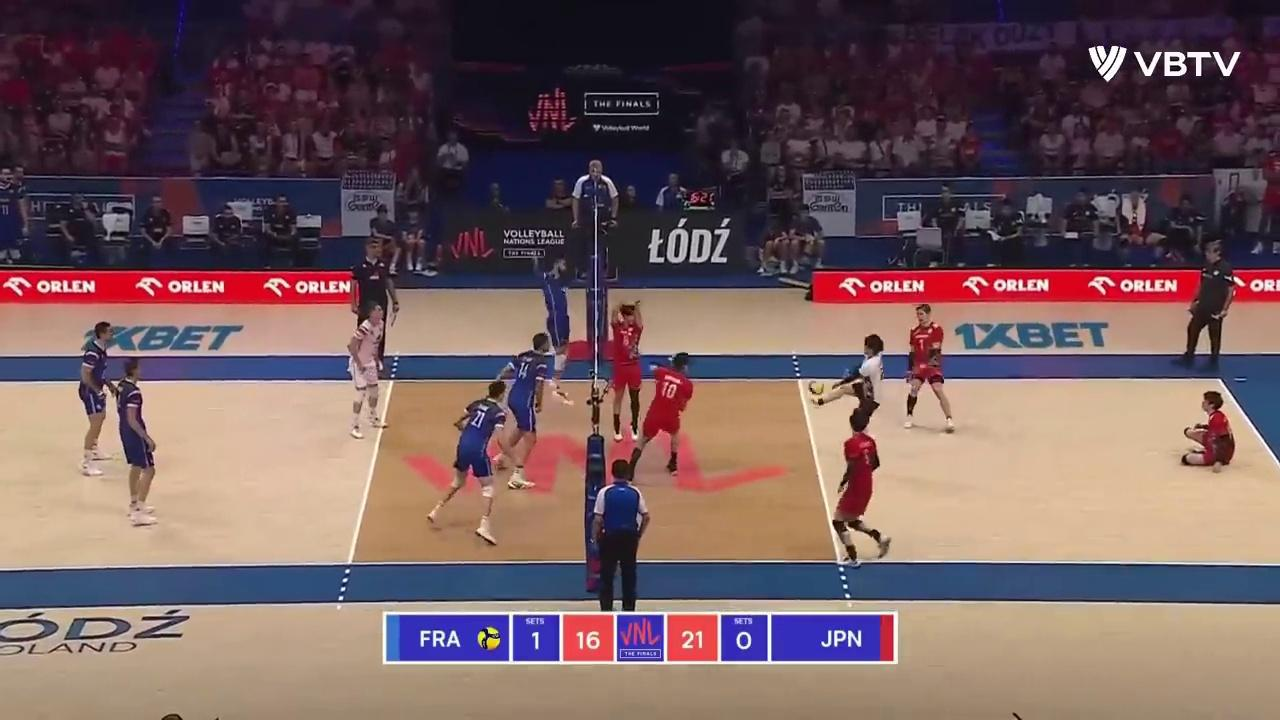ball: (808, 381, 824, 395)
